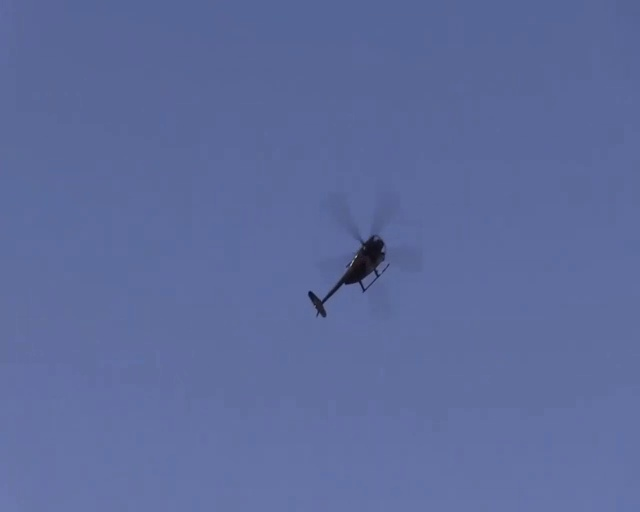HELICOPTER: (308, 187, 424, 319)
